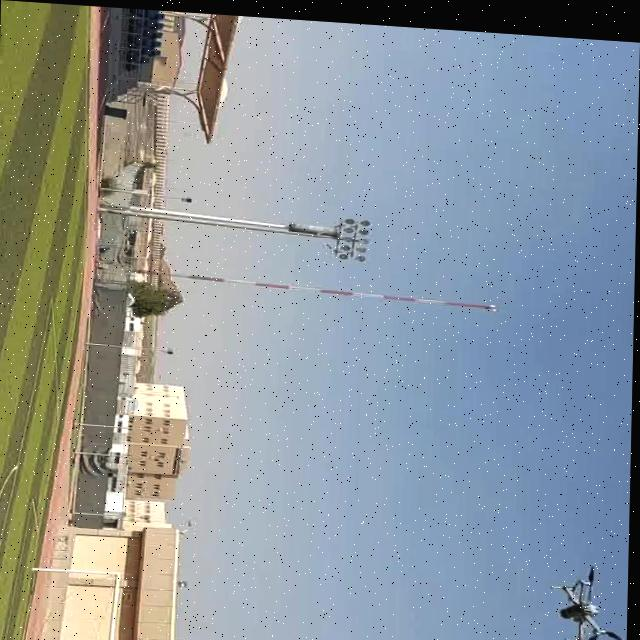drone: (550, 551, 630, 640)
